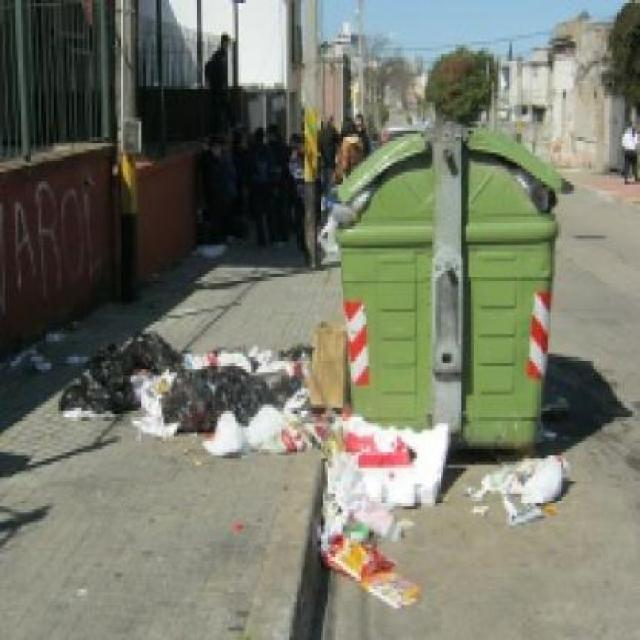garbage: (73, 322, 316, 462), (312, 414, 443, 602), (482, 453, 569, 523)
